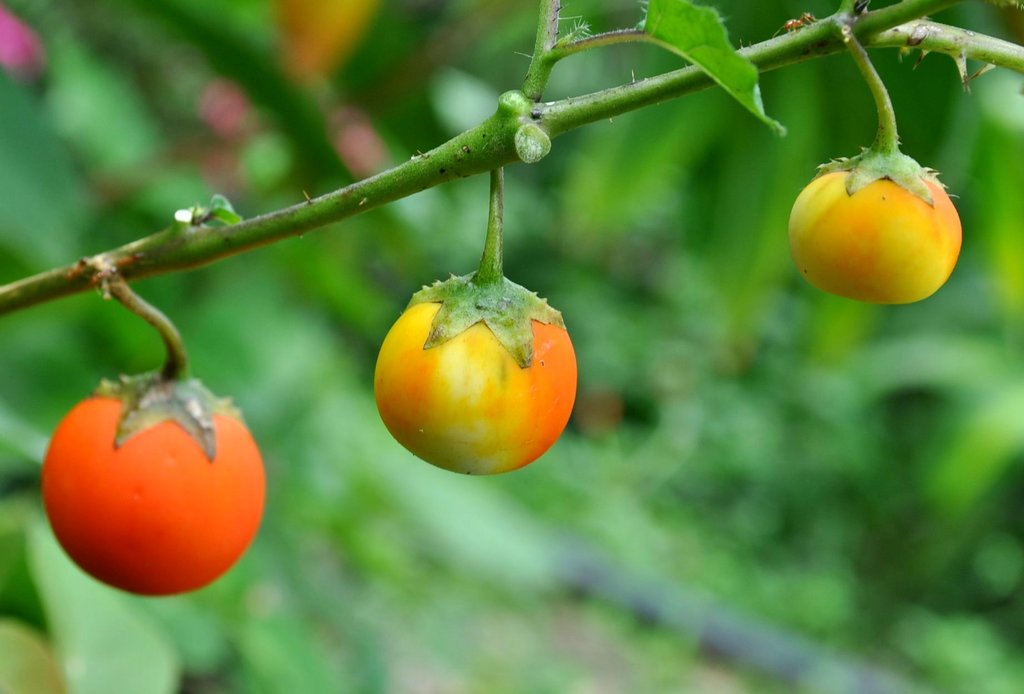Tomato: (373, 270, 577, 475)
